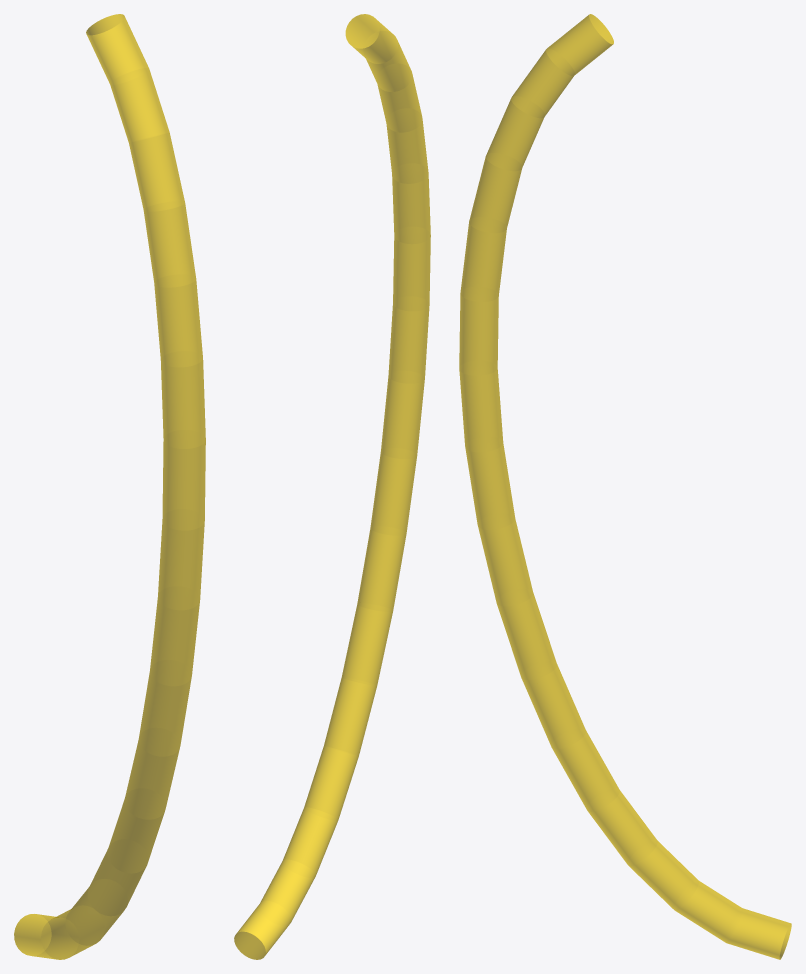
The model's file is Event_31209032_track_26.fbx.
The picture shows the model from 3 angles, left to right: view 1: azimuth 30°, elevation 25°; view 2: azimuth 150°, elevation 25°; view 3: azimuth 270°, elevation 25°; orthographic projection. The views are drawn at different scales.
Visible parts, largest first — view 1: Model; view 2: Model; view 3: Model.
Part boxes in pixels (x1,y1,x2,y2): Model: (14,14,205,959); Model: (234,14,430,959); Model: (459,14,791,959).
Size of the model in its own units: 0.0715 by 1.07 by 0.3458.
